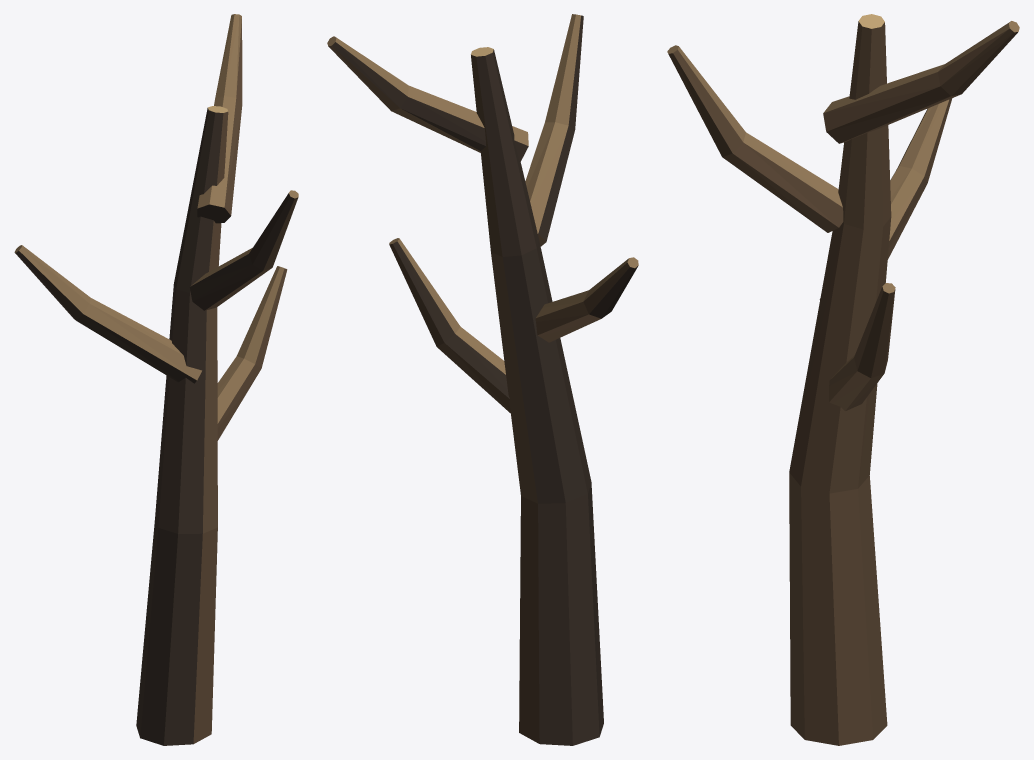
The model's file is TW_TREE_DEAD_FORK_B_LOD0.glb.
3 renders of one model, left to right at view 1: azimuth 30°, elevation 25°; view 2: azimuth 150°, elevation 25°; view 3: azimuth 270°, elevation 25°, orthographic. The views are drawn at different scales.
Parts seen in each view (by area): view 1: TW_TREE_DEAD_FORK_B_LOD0; view 2: TW_TREE_DEAD_FORK_B_LOD0; view 3: TW_TREE_DEAD_FORK_B_LOD0.
Part boxes in pixels (x1=…): TW_TREE_DEAD_FORK_B_LOD0: x1=14, y1=14, x2=298, y2=745; TW_TREE_DEAD_FORK_B_LOD0: x1=327, y1=14, x2=638, y2=745; TW_TREE_DEAD_FORK_B_LOD0: x1=667, y1=14, x2=1019, y2=745.
Bounding box in the file's own units: 1.32 × 3.17 × 1.29.
Materials: 1 (1 with a texture image).
